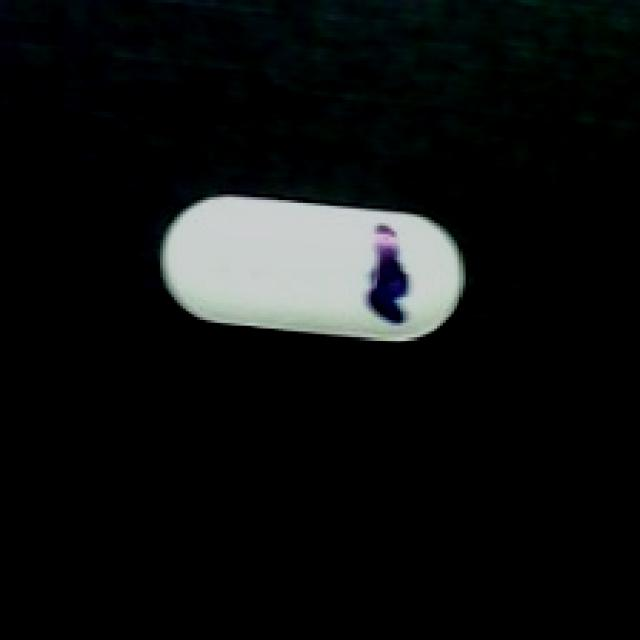defected: (157, 186, 474, 346)
